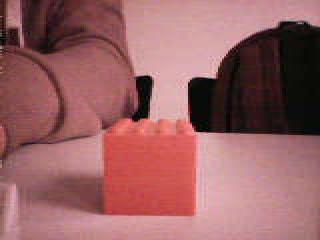legocube: (100, 116, 199, 218)
